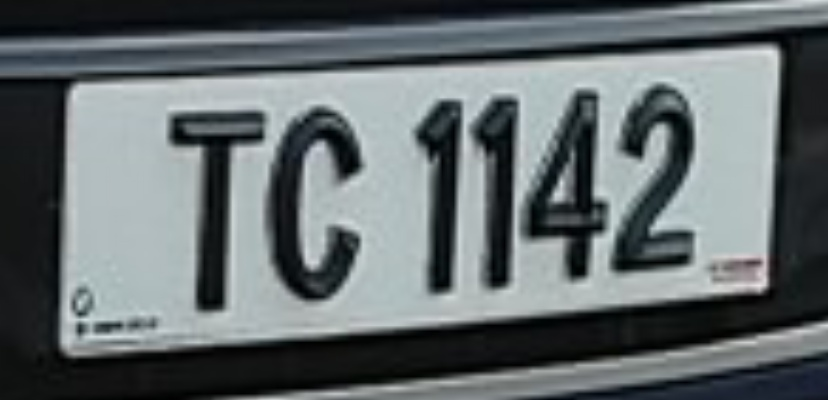1: (390, 77, 480, 330), (453, 68, 526, 323)
2: (608, 68, 700, 298)
4: (515, 71, 612, 310)
C: (254, 89, 379, 329)
T: (147, 87, 282, 346)
